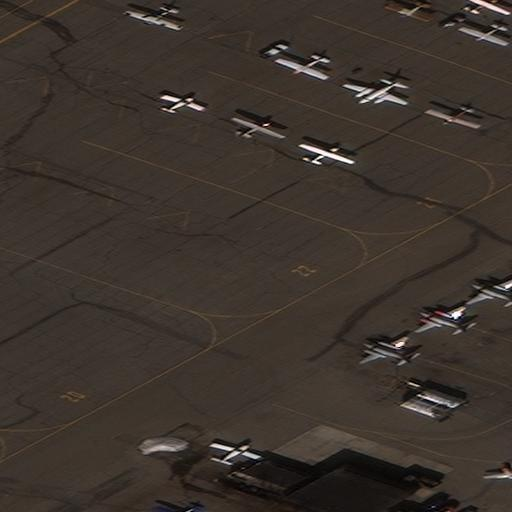Small Civil Transport: (341, 81, 405, 105), (358, 335, 409, 363), (413, 305, 466, 331), (122, 7, 179, 31), (273, 55, 324, 80), (464, 278, 512, 304), (423, 107, 477, 129), (233, 116, 286, 137), (301, 143, 355, 163), (457, 24, 506, 46), (212, 442, 261, 463), (383, 2, 427, 22), (161, 93, 205, 112), (482, 462, 512, 484), (465, 0, 511, 13), (151, 503, 199, 512)
